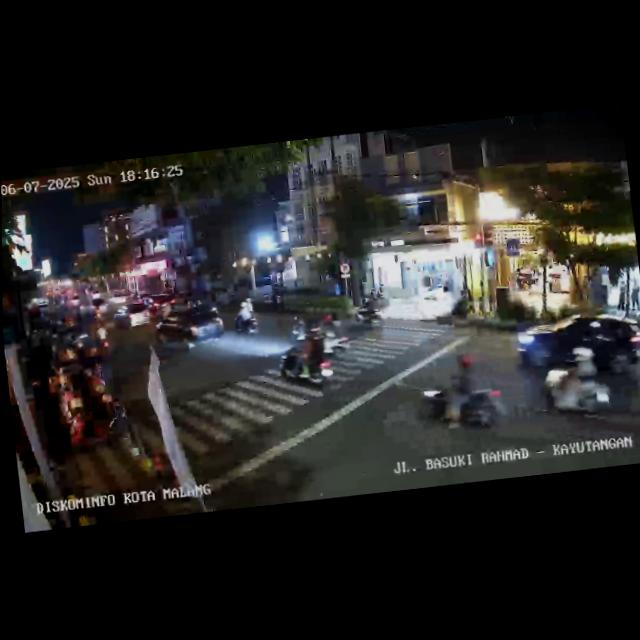car: (511, 308, 640, 389), (152, 301, 227, 352), (110, 299, 159, 332)
motorcycle: (415, 354, 507, 439), (538, 337, 618, 424), (275, 324, 341, 395), (307, 311, 355, 356), (229, 298, 261, 339), (349, 300, 384, 332), (93, 318, 111, 354)
person: (626, 280, 640, 312), (616, 280, 628, 312)
